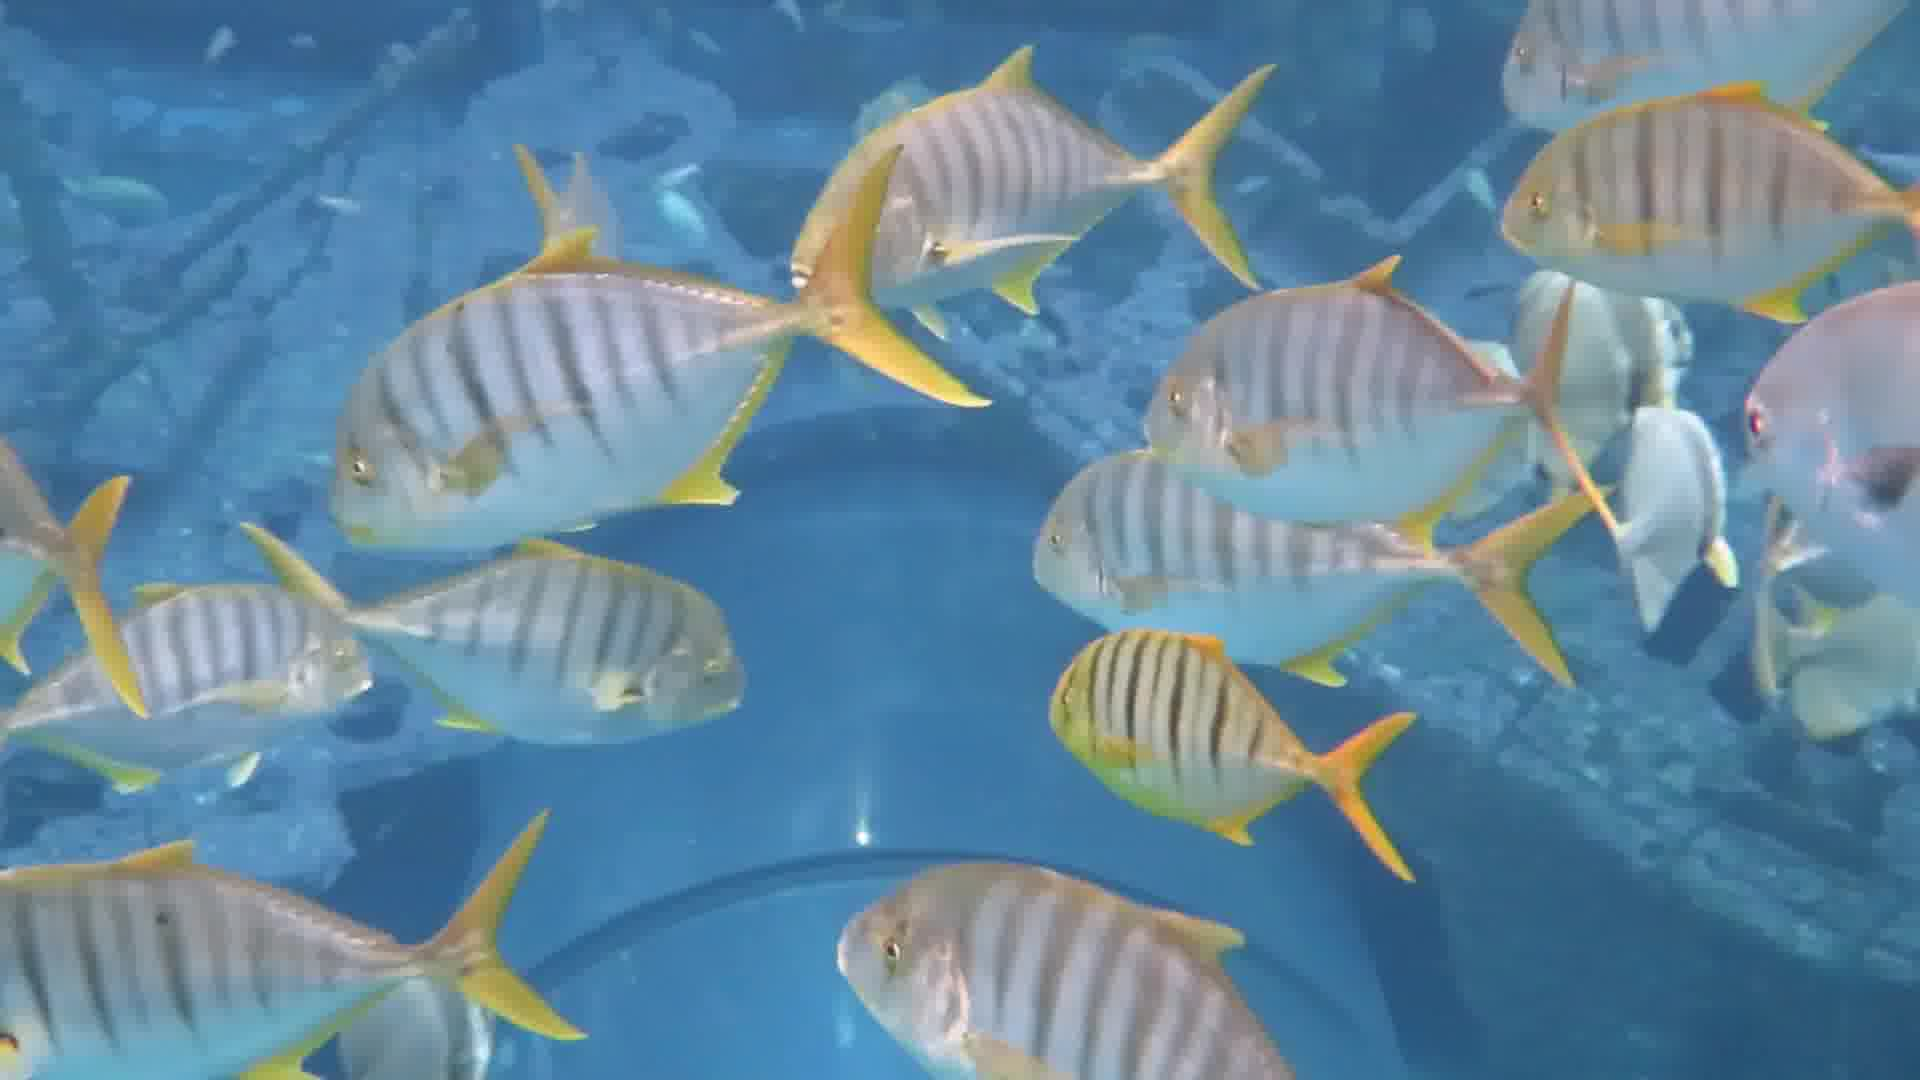Gnathanodon speciosus: (339, 203, 898, 558), (1006, 435, 1610, 659), (798, 74, 1294, 313), (789, 848, 1291, 1080), (1131, 280, 1604, 498), (1040, 634, 1422, 889), (340, 553, 757, 756), (1491, 121, 1913, 291), (1, 580, 367, 760), (1494, 1, 1894, 128)
